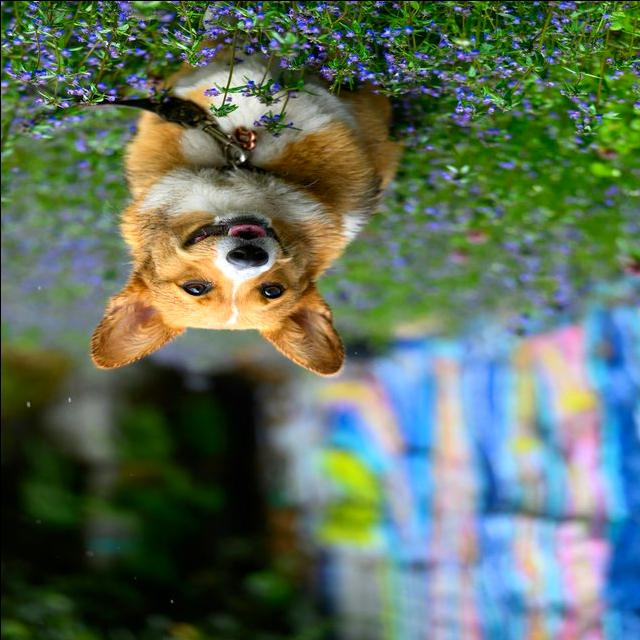corgi: (89, 40, 404, 378)
